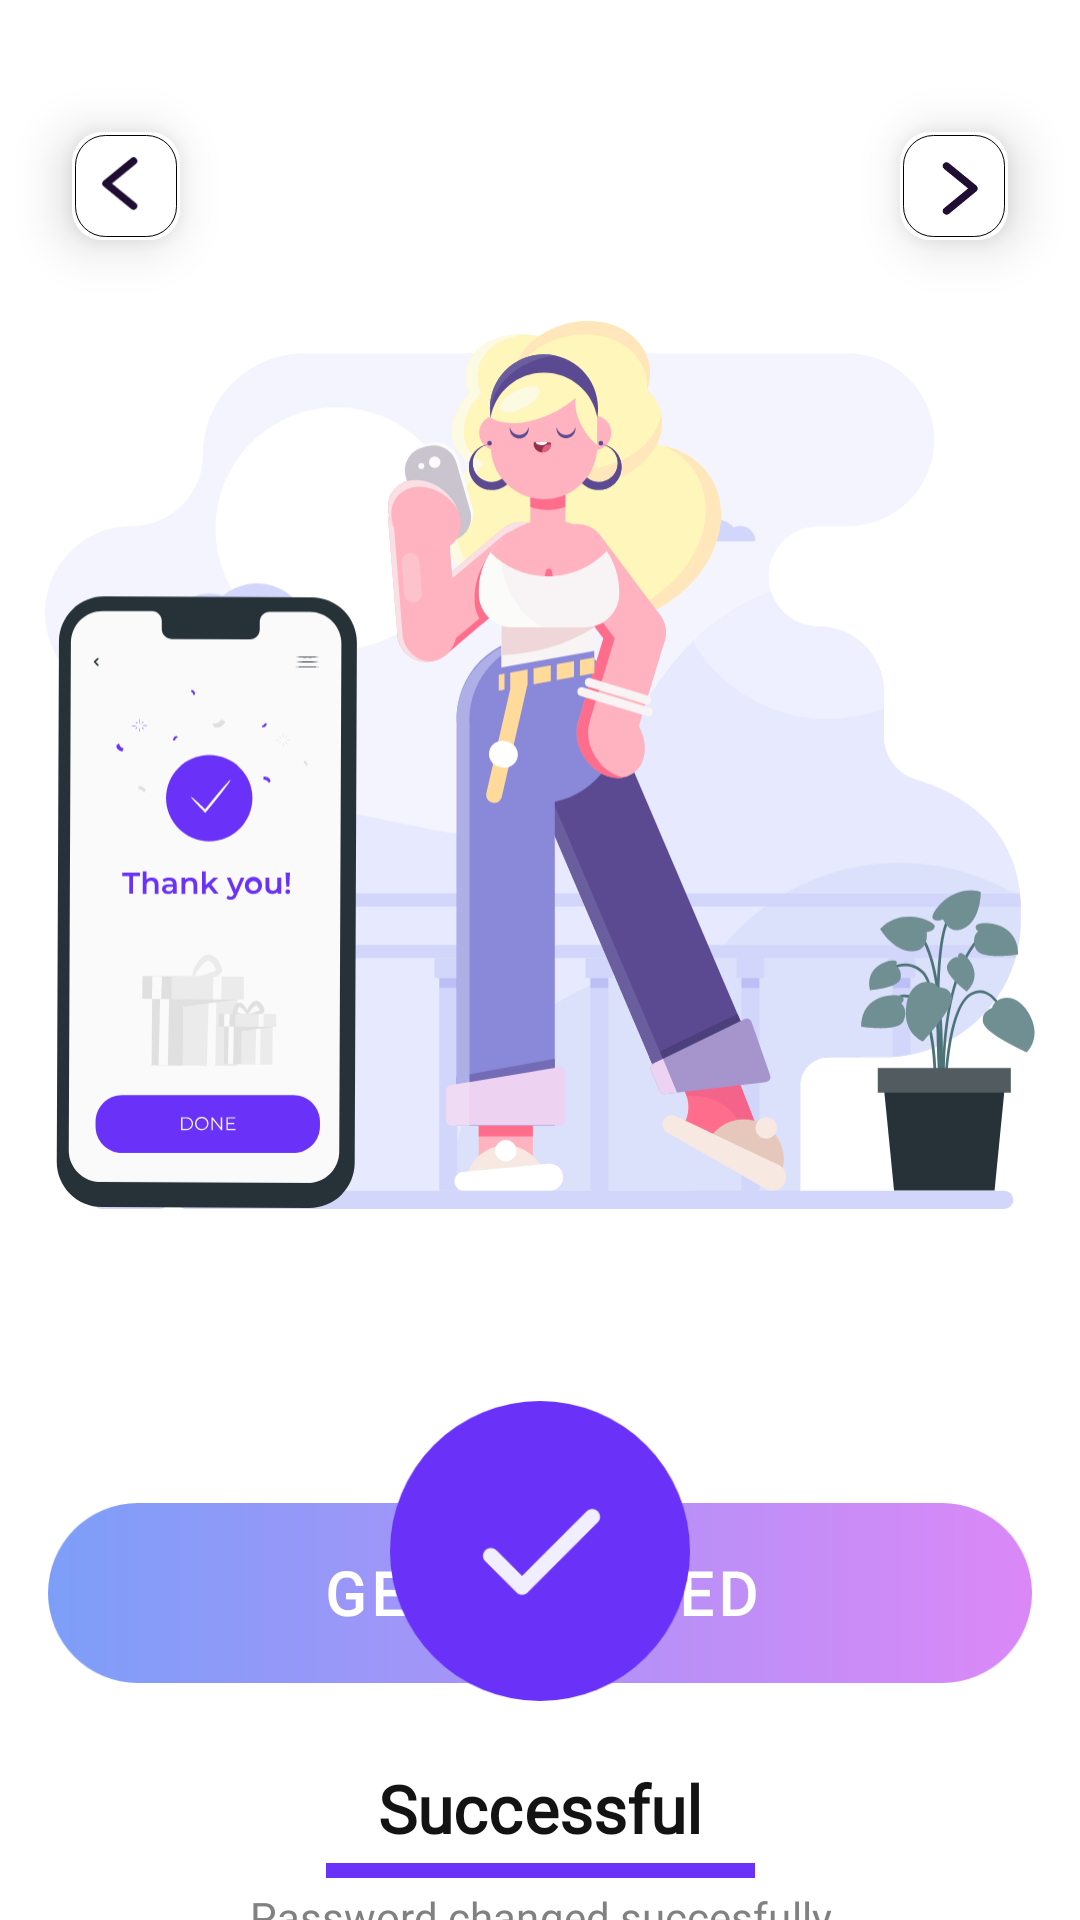

Where icons sit on this 1080w x 1920h app screen, as (x1, y1, x2, y2):
Back Button: (102, 157, 138, 210)
Success checkmark: (390, 1401, 690, 1701)
